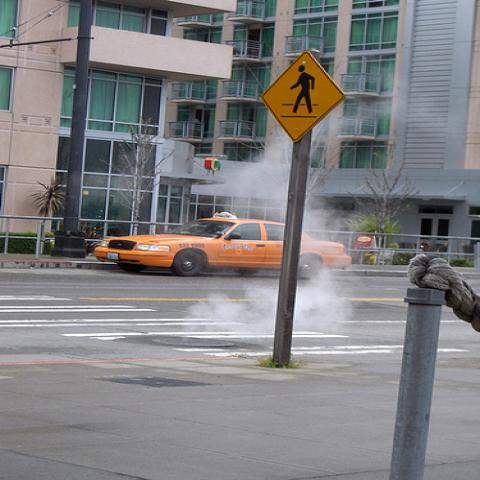car: (96, 218, 352, 279)
